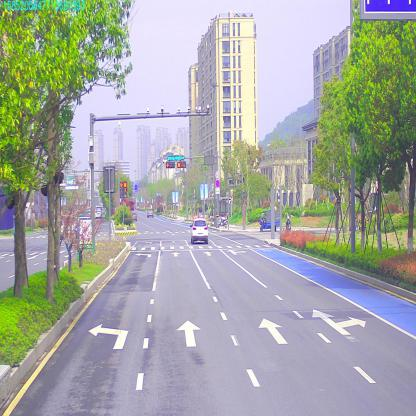traffic-light: (167, 153, 186, 161), (165, 161, 175, 168), (178, 161, 186, 169)
